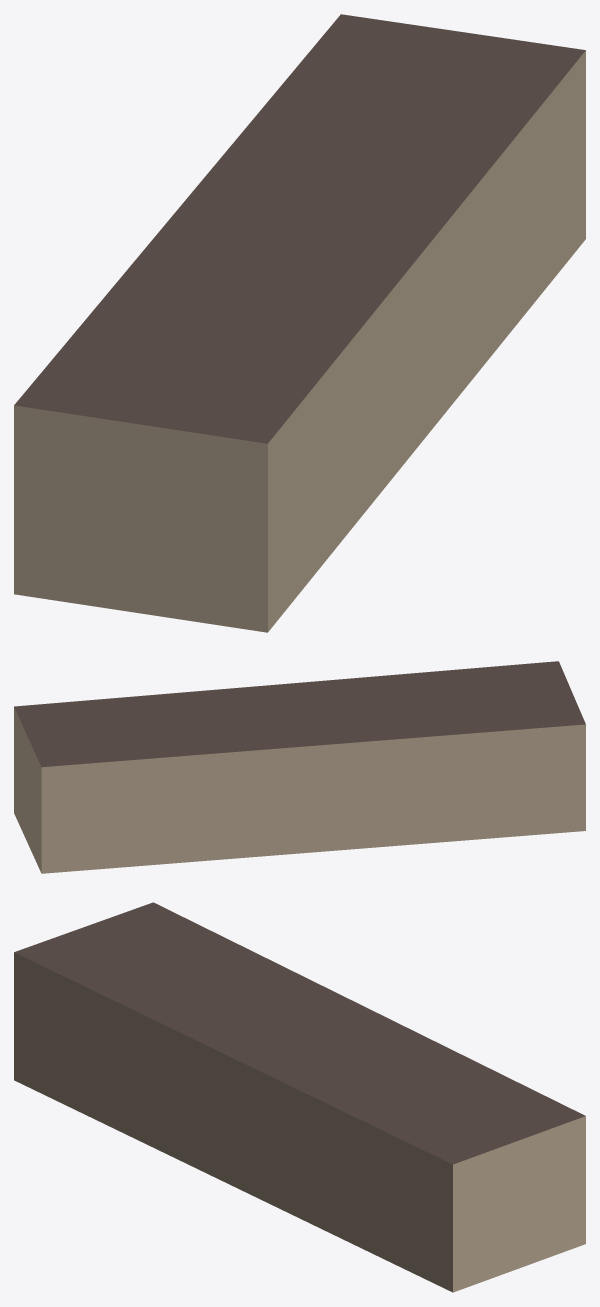
3 renders of one model, top to bottom at view 1: azimuth 30°, elevation 25°; view 2: azimuth 150°, elevation 25°; view 3: azimuth 270°, elevation 25°, orthographic. The views are drawn at different scales.
Visible parts, largest first — view 1: HP-w1515076941; view 2: HP-w1515076941; view 3: HP-w1515076941.
Part boxes in pixels (box(x1,y1,x2,y2)): HP-w1515076941: box(14, 14, 585, 632); HP-w1515076941: box(14, 661, 585, 873); HP-w1515076941: box(14, 902, 585, 1292).
Bounding box in the file's own units: 39.53 × 9 × 36.43.
